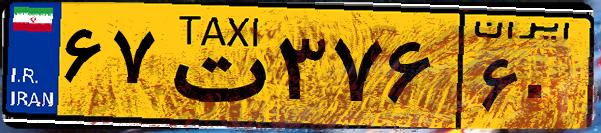0: (525, 38, 570, 115)
3: (270, 28, 330, 110)
6: (385, 28, 445, 110), (57, 26, 110, 100), (475, 38, 525, 113)
7: (330, 28, 385, 110), (110, 28, 158, 98)
ت: (158, 12, 270, 120)
